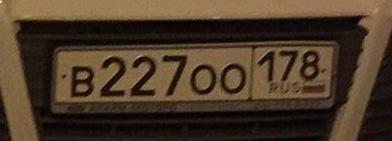license-plateSW: (51, 43, 340, 103)
